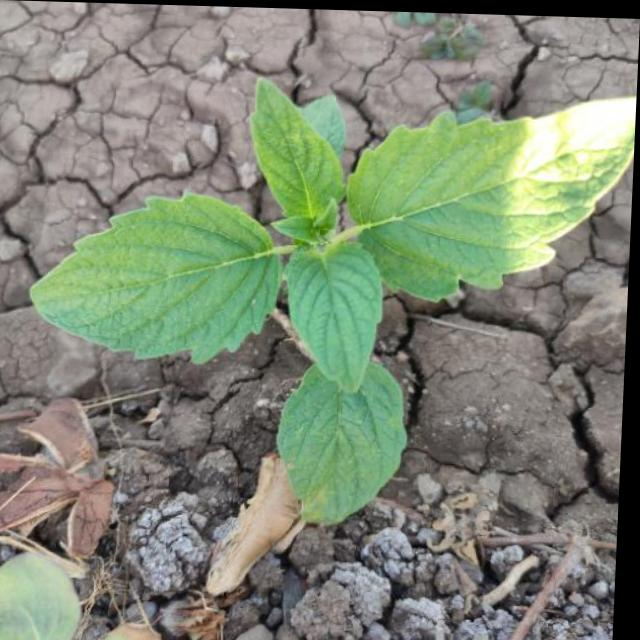crop: (19, 54, 638, 521)
